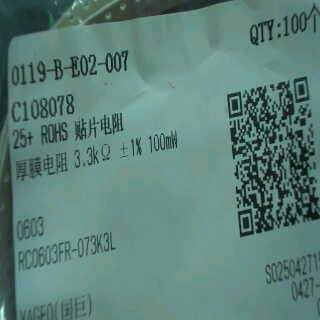3.3kO: (69, 140, 115, 177)
